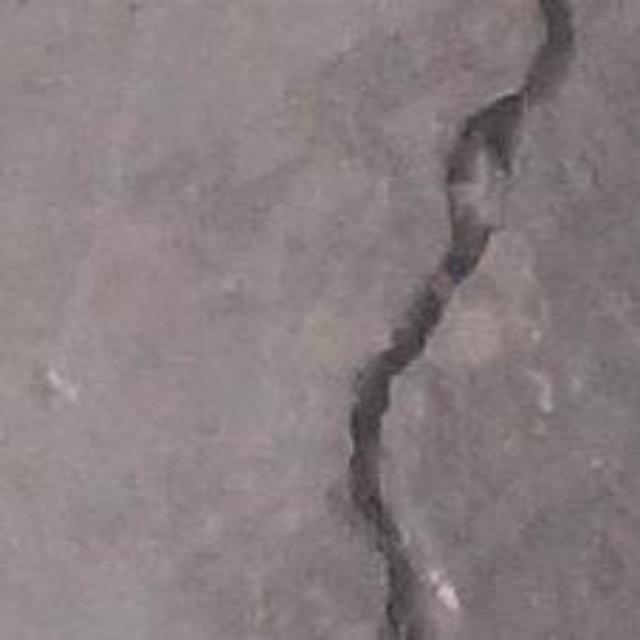crack: (347, 0, 575, 639)
